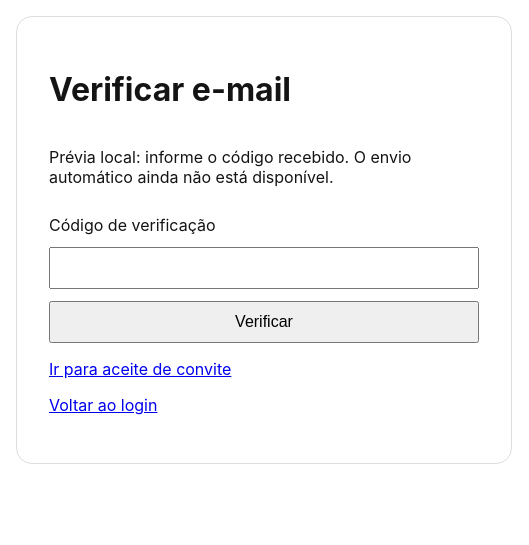
Test: rejects malformed codes without sending them
Type "invalid" into the field labelled "Código de verificação".
click(264, 268); type("invalid")  # box [49,247,479,289]
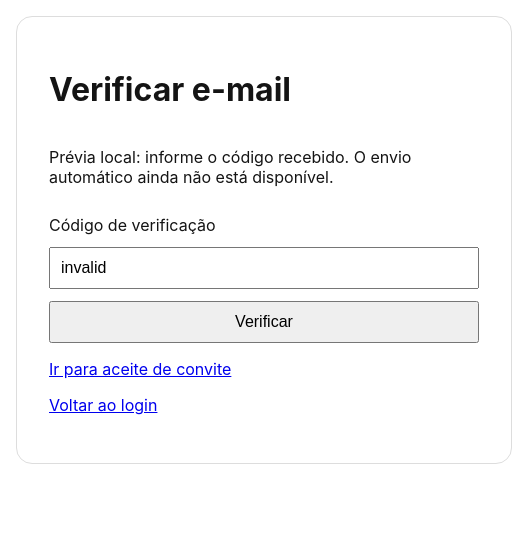
Click the button "Verificar".
click(264, 322)  # box [49,301,479,343]
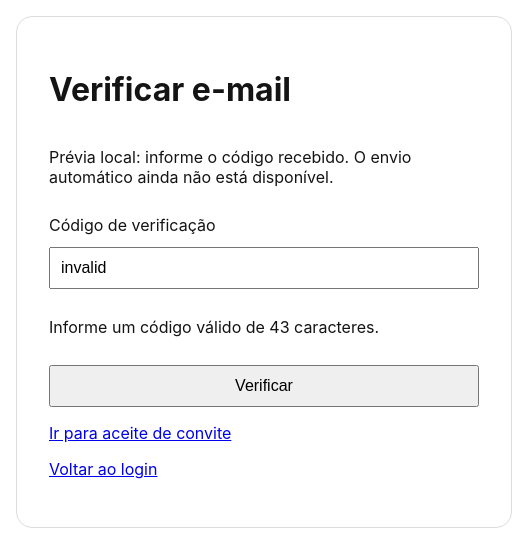
Expected: the message shows "código válido", [49,317,379,337]
